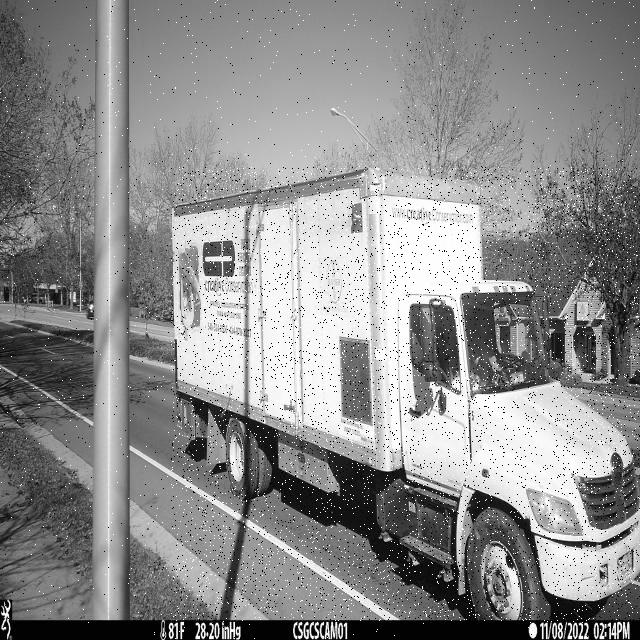Box Truck: (171, 167, 640, 621)
